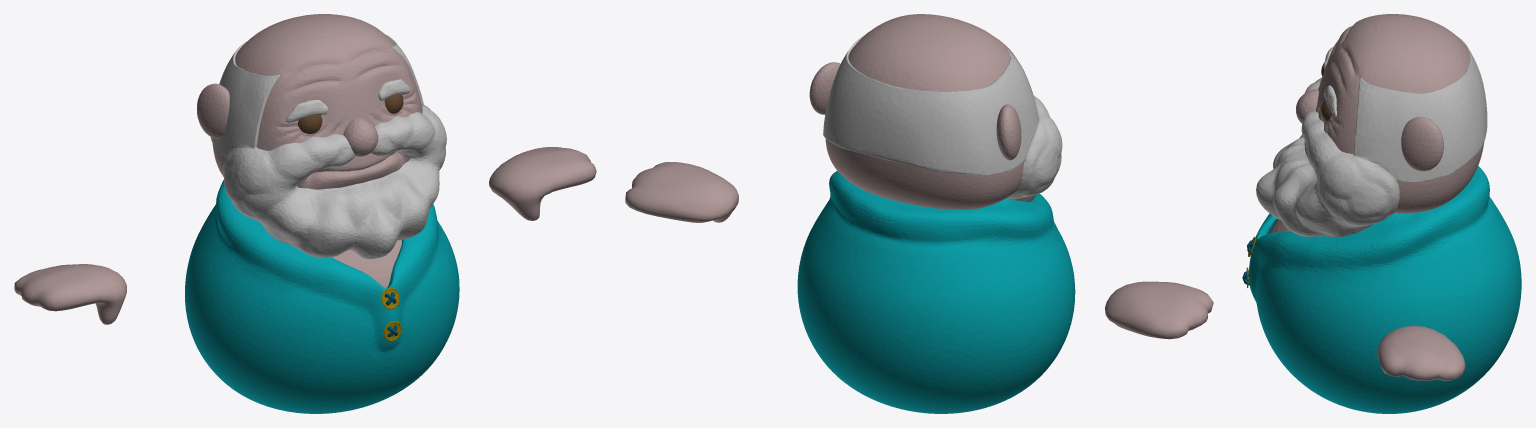
File: NONNOCOLORE.fbx
3 views of the same model, side by side, from view 1: azimuth 30°, elevation 25°; view 2: azimuth 150°, elevation 25°; view 3: azimuth 270°, elevation 25° (orthographic).
Parts seen in each view (by area): view 1: Ret_mani_NONNO:Nonno_OBJ:Group33795, Ret_mani_NONNO:Nonno_OBJ:polySurface1, Ret_mani_NONNO:Nonno_OBJ:polySurface2; view 2: Ret_mani_NONNO:Nonno_OBJ:Group33795, Ret_mani_NONNO:Nonno_OBJ:polySurface1, Ret_mani_NONNO:Nonno_OBJ:polySurface2; view 3: Ret_mani_NONNO:Nonno_OBJ:Group33795, Ret_mani_NONNO:Nonno_OBJ:polySurface1.
Boxes of the visible parts, x1,y1,x2,y2 form: Ret_mani_NONNO:Nonno_OBJ:Group33795: [185, 14, 459, 413]; Ret_mani_NONNO:Nonno_OBJ:polySurface1: [489, 147, 596, 220]; Ret_mani_NONNO:Nonno_OBJ:polySurface2: [14, 264, 126, 324]; Ret_mani_NONNO:Nonno_OBJ:Group33795: [797, 14, 1075, 413]; Ret_mani_NONNO:Nonno_OBJ:polySurface1: [625, 162, 738, 222]; Ret_mani_NONNO:Nonno_OBJ:polySurface2: [1105, 281, 1213, 339]; Ret_mani_NONNO:Nonno_OBJ:Group33795: [1242, 14, 1521, 413]; Ret_mani_NONNO:Nonno_OBJ:polySurface1: [1377, 325, 1465, 381].
Size of the model in its own units: 5.6 by 3.53 by 2.41.
